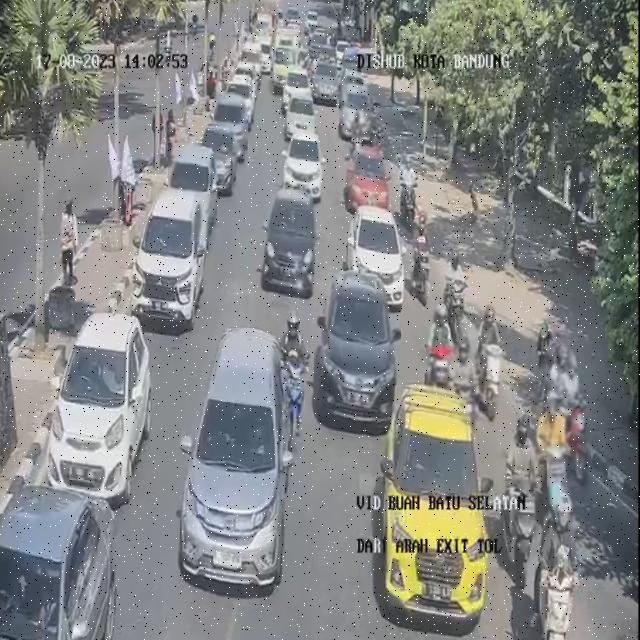cars: (180, 328, 294, 588), (382, 386, 492, 634), (48, 313, 150, 506), (314, 271, 401, 431), (132, 187, 208, 329), (257, 189, 320, 296), (347, 206, 405, 309), (169, 144, 216, 241), (282, 129, 327, 201), (345, 145, 391, 212), (203, 124, 239, 193), (214, 93, 247, 159), (339, 81, 373, 137), (284, 89, 317, 141)
motorcycle: (502, 410, 542, 594), (531, 391, 580, 537), (534, 493, 582, 640), (547, 347, 591, 487), (277, 307, 311, 441), (472, 302, 507, 426), (426, 304, 459, 403), (451, 333, 478, 433), (411, 212, 434, 314), (445, 253, 470, 339), (400, 153, 420, 237)
